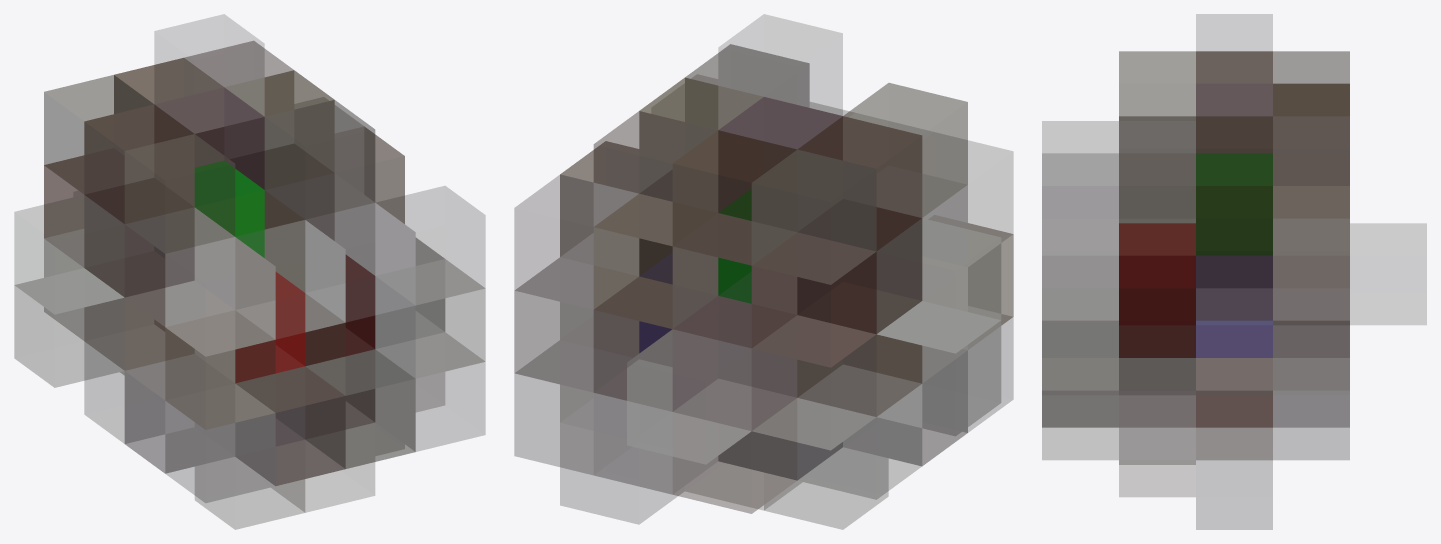
Rendered from iter_5.obj.
The picture shows the model from 3 angles, left to right: view 1: azimuth 30°, elevation 25°; view 2: azimuth 150°, elevation 25°; view 3: azimuth 270°, elevation 25°; orthographic projection. The views are drawn at different scales.
Parts seen in each view (by area): view 1: iter_5; view 2: iter_5; view 3: iter_5.
Boxes of the visible parts, box(x1,y1,x2,y2) form: iter_5: box(14, 14, 485, 529); iter_5: box(514, 14, 1013, 529); iter_5: box(1042, 14, 1426, 529).
Size of the model in its own units: 0.5 by 0.6 by 0.5.
